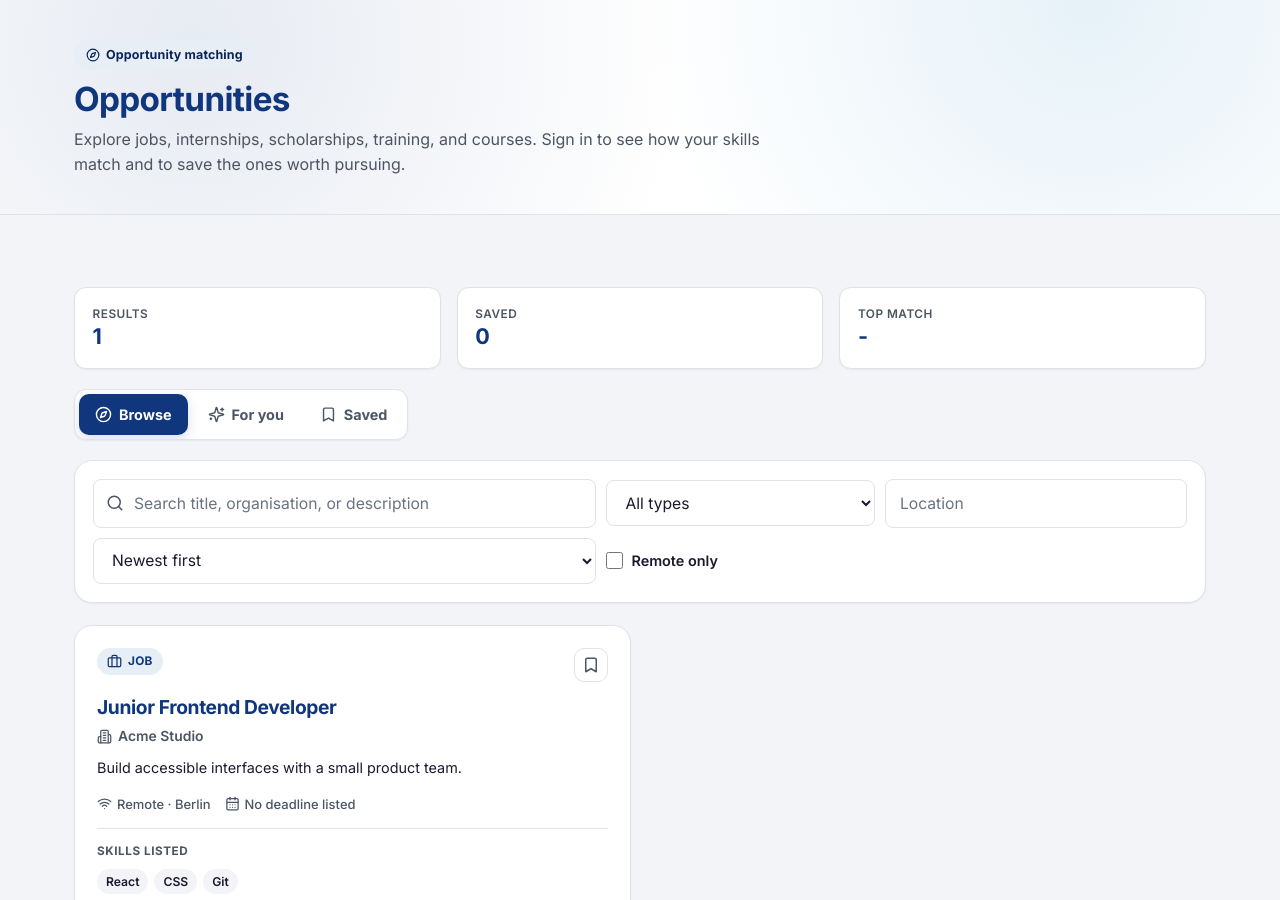
Scenario: saves an opportunity and updates the save button
The width and height of the screenshot is (1280, 900).
Click the button named "save junior frontend developer" at (591, 665), box [574,648,608,682]
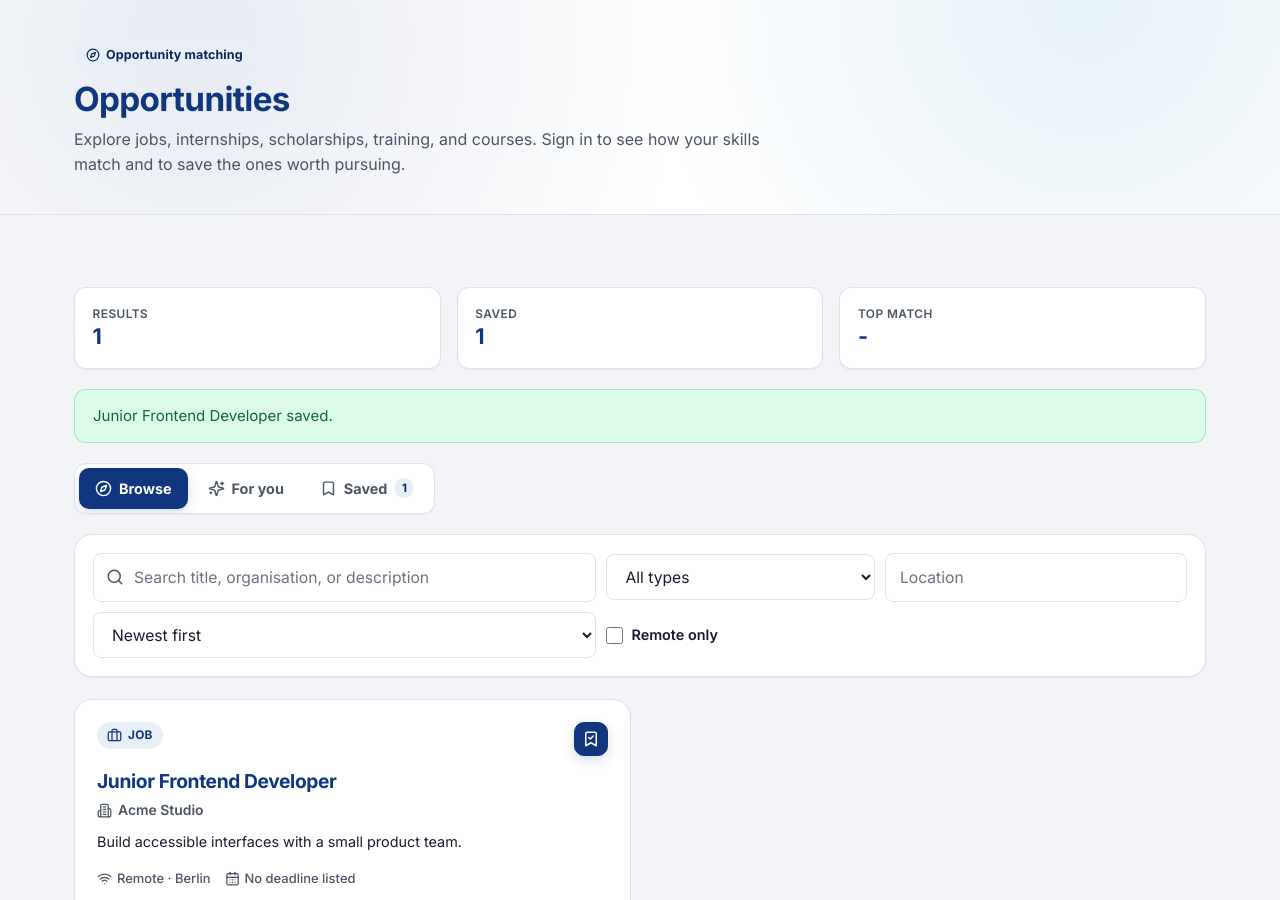
Expected: the text "Junior Frontend Developer saved." is shown, [74,389,1206,443]
Expected: the button named "remove junior frontend developer from saved opportunities" is shown, [574,722,608,756]
